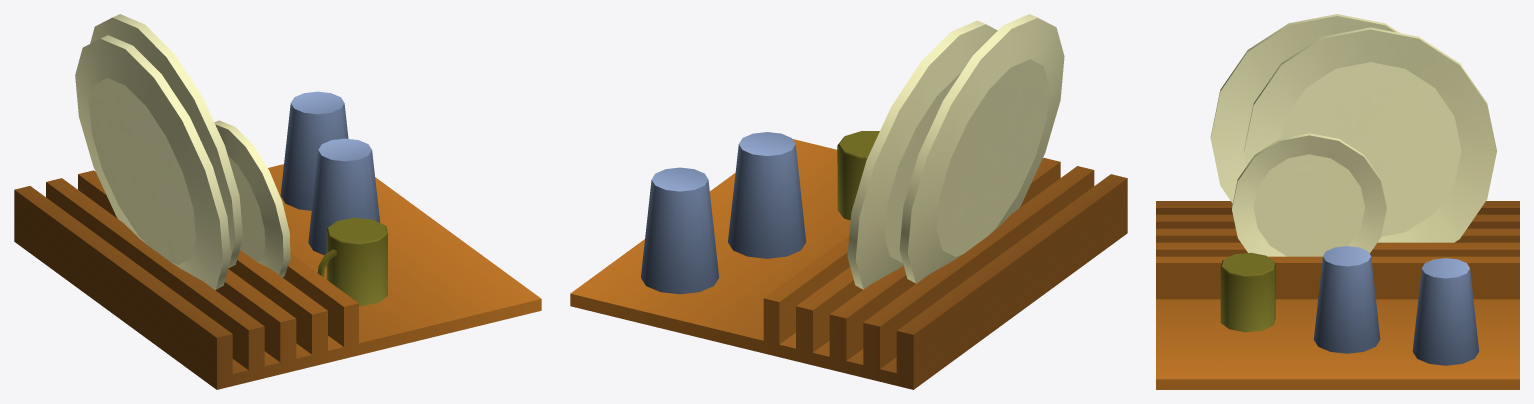
File: dishrack.fbx
3 views of the same model, side by side, from view 1: azimuth 30°, elevation 25°; view 2: azimuth 150°, elevation 25°; view 3: azimuth 270°, elevation 25° (orthographic). The views are drawn at different scales.
Visible parts, largest first — view 1: dishrack; view 2: dishrack; view 3: dishrack.
Boxes of the visible parts, box(x1,y1,x2,y2) form: dishrack: box(14, 14, 541, 389); dishrack: box(570, 14, 1127, 389); dishrack: box(1156, 14, 1519, 389).
Size of the model in its own units: 1.07 by 0.8391 by 1.16.
